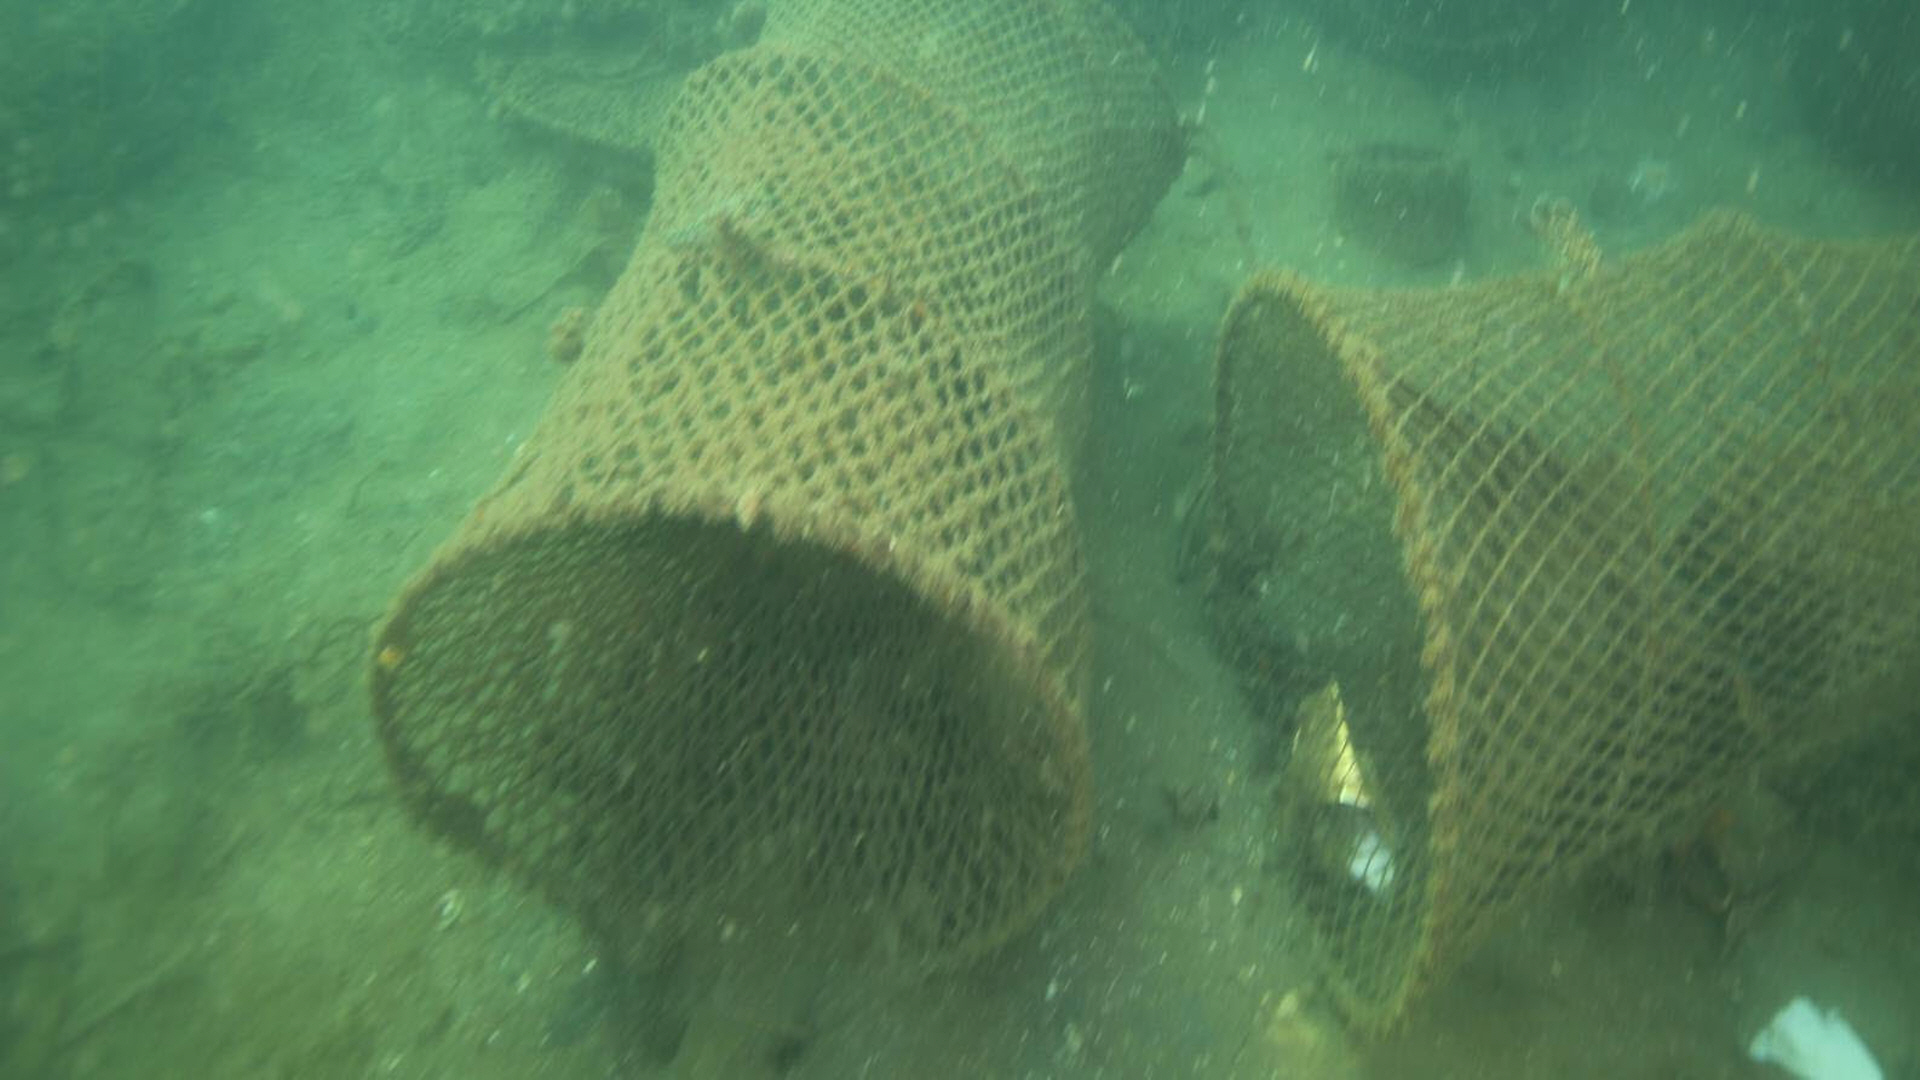spring fish trap: (363, 0, 1192, 992), (1207, 207, 1920, 1046)
